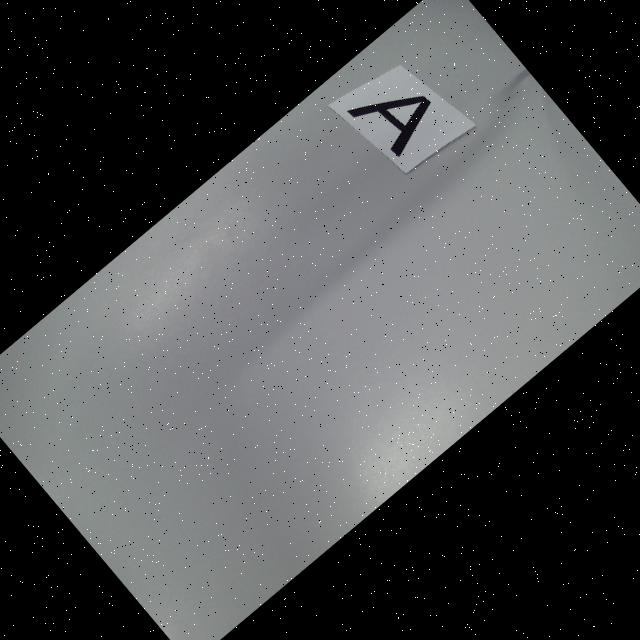FAKE: (347, 64, 446, 163)
